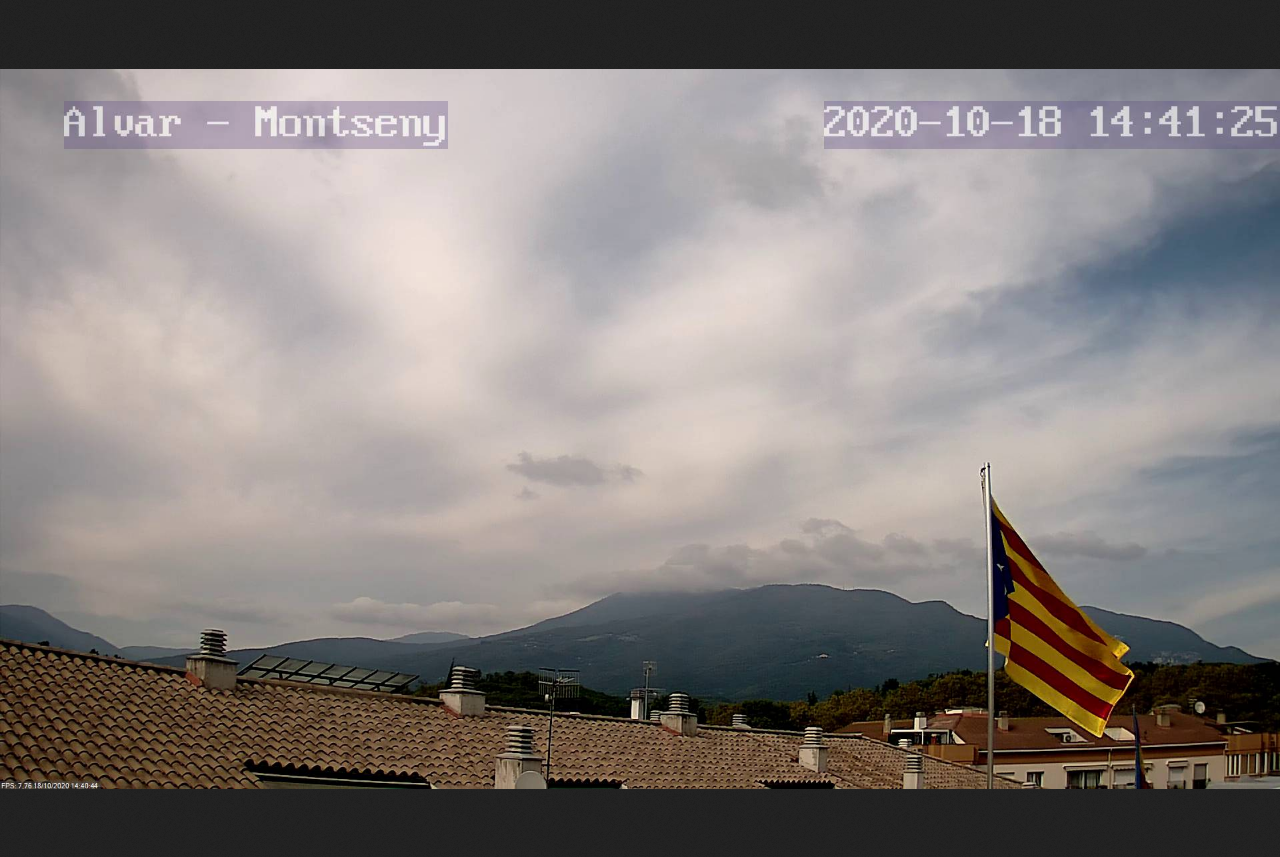maybe: (975, 469, 1136, 743)
